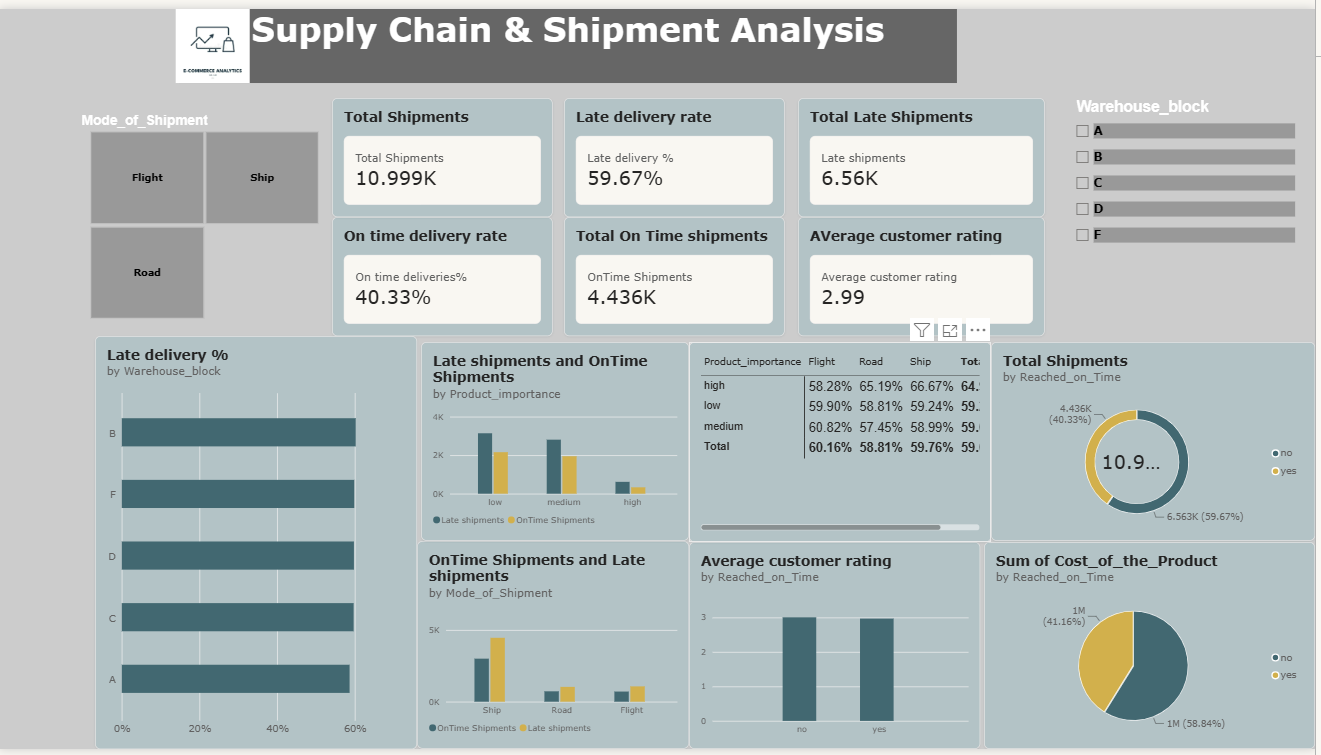

What the dashboard file says about the page in this screenshot:
{"tool":"powerbi","page":{"name":"Executive overview","canvas":[1920,1080],"ordinal":0},"visuals":[{"type":"cardVisual","title":"Late delivery rate","fields":{"Data":["Supply_chain1.Late delivery %"]},"box":[824.3,129.8,322.4,173.6],"z":0},{"type":"cardVisual","title":"AVerage customer rating","fields":{"Data":["Supply_chain1.Average customer rating"]},"box":[1165.7,303.5,360.4,173.6],"z":1},{"type":"cardVisual","title":"Total Late Shipments","fields":{"Data":["Supply_chain1.Late shipments"]},"box":[1165.7,129.8,360.4,173.6],"z":2},{"type":"cardVisual","title":"On time delivery rate","fields":{"Data":["Supply_chain1.On time deliveries%"]},"box":[485.8,303.5,322.4,173.6],"z":3},{"type":"cardVisual","title":"Total On Time shipments","fields":{"Data":["Supply_chain1.OnTime Shipments"]},"box":[824.3,303.5,322.4,173.6],"z":4},{"type":"cardVisual","title":"Total Shipments","fields":{"Data":["Supply_chain1.Total Shipments"]},"box":[485.8,129.8,322.4,173.6],"z":5},{"type":"donutChart","fields":{"Category":["Supply_chain1.Reached_on_Time"],"Y":["Supply_chain1.Total Shipments"]},"box":[1447.3,485.8,472.7,290.3],"z":6},{"type":"clusteredColumnChart","fields":{"Category":["Supply_chain1.Mode_of_Shipment"],"Y":["Supply_chain1.OnTime Shipments","Supply_chain1.Late shipments"]},"box":[609.8,776.2,396.8,303.5],"z":7},{"type":"barChart","fields":{"Category":["Supply_chain1.Warehouse_block"],"Y":["Supply_chain1.Late delivery %"]},"box":[140.1,477.1,469.8,602.6],"z":8},{"type":"clusteredColumnChart","fields":{"Category":["Supply_chain1.Product_importance"],"Y":["Supply_chain1.Late shipments","Supply_chain1.OnTime Shipments"]},"box":[615.7,485.8,391,290.3],"z":9},{"type":"clusteredColumnChart","fields":{"Category":["Supply_chain1.Reached_on_Time"],"Y":["Supply_chain1.Average customer rating"]},"box":[1006.7,777.6,424.6,302],"z":10},{"type":"pieChart","fields":{"Category":["Supply_chain1.Reached_on_Time"],"Y":["Sum(Supply_chain1.Cost_of_the_Product)"]},"box":[1437.1,777.6,482.9,302],"z":11},{"type":"slicer","fields":{"Values":["Supply_chain1.Mode_of_Shipment"]},"box":[112.3,151.7,373.5,302],"z":12},{"type":"slicer","fields":{"Values":["Supply_chain1.Warehouse_block"]},"box":[1564,129.8,326.8,240.7],"z":13},{"type":"pivotTable","fields":{"Columns":["Supply_chain1.Mode_of_Shipment"],"Rows":["Supply_chain1.Product_importance"],"Values":["Supply_chain1.Late delivery %"]},"box":[1006.7,485.8,440.6,291.8],"z":14},{"type":"textbox","box":[262.6,0,1135.1,108],"z":15},{"type":"image","box":[202.8,0,217.4,108],"z":16}]}

Visuals, with their boxes in screenshot pixels (x1, y1, x2, y2), scaled from the page's 1920x1080 canvas onto the 1321x755 screenshot:
"Late delivery rate" cardVisual: 567,91,789,212
"AVerage customer rating" cardVisual: 802,212,1050,334
"Total Late Shipments" cardVisual: 802,91,1050,212
"On time delivery rate" cardVisual: 334,212,556,334
"Total On Time shipments" cardVisual: 567,212,789,334
"Total Shipments" cardVisual: 334,91,556,212
donutChart - Supply_chain1.Reached_on_Time x Supply_chain1.Total Shipments: 996,340,1320,543
clusteredColumnChart - Supply_chain1.Mode_of_Shipment x Supply_chain1.OnTime Shipments: 420,543,693,754
barChart - Supply_chain1.Warehouse_block x Supply_chain1.Late delivery %: 96,334,420,754
clusteredColumnChart - Supply_chain1.Product_importance x Supply_chain1.Late shipments: 424,340,693,543
clusteredColumnChart - Supply_chain1.Reached_on_Time x Supply_chain1.Average customer rating: 693,544,985,754
pieChart - Supply_chain1.Reached_on_Time x Sum(Supply_chain1.Cost_of_the_Product): 989,544,1320,754
slicer - Supply_chain1.Mode_of_Shipment: 77,106,334,317
slicer - Supply_chain1.Warehouse_block: 1076,91,1301,259
pivotTable - Supply_chain1.Mode_of_Shipment x Supply_chain1.Product_importance: 693,340,996,544
textbox: 181,0,962,76
image: 140,0,289,76
